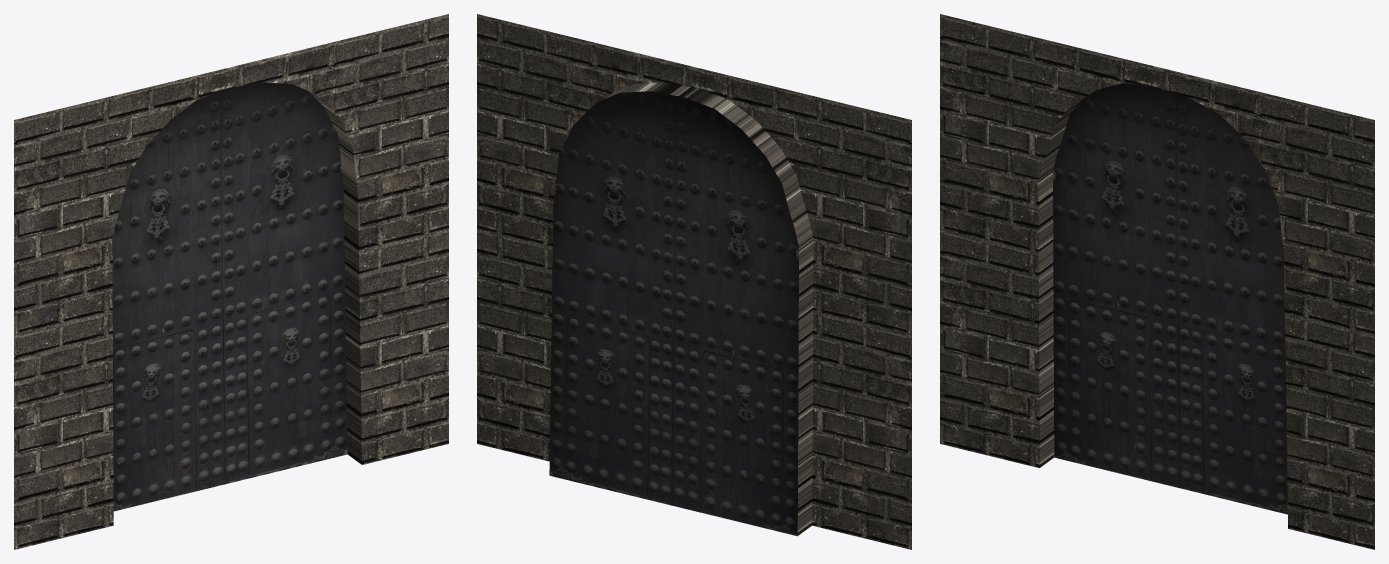
File: WallTileDoor.FBX
3 views of the same model, side by side, from view 1: azimuth 30°, elevation 25°; view 2: azimuth 150°, elevation 25°; view 3: azimuth 330°, elevation 25° (orthographic).
Visible parts, largest first — view 1: WallTileDoor; view 2: WallTileDoor; view 3: WallTileDoor.
Boxes of the visible parts, x1,y1,x2,y2 form: WallTileDoor: (14, 14, 448, 549); WallTileDoor: (477, 14, 911, 549); WallTileDoor: (940, 14, 1374, 549).
Size of the model in its own units: 400 by 378 by 23.12.
2 materials, 2 textured.
